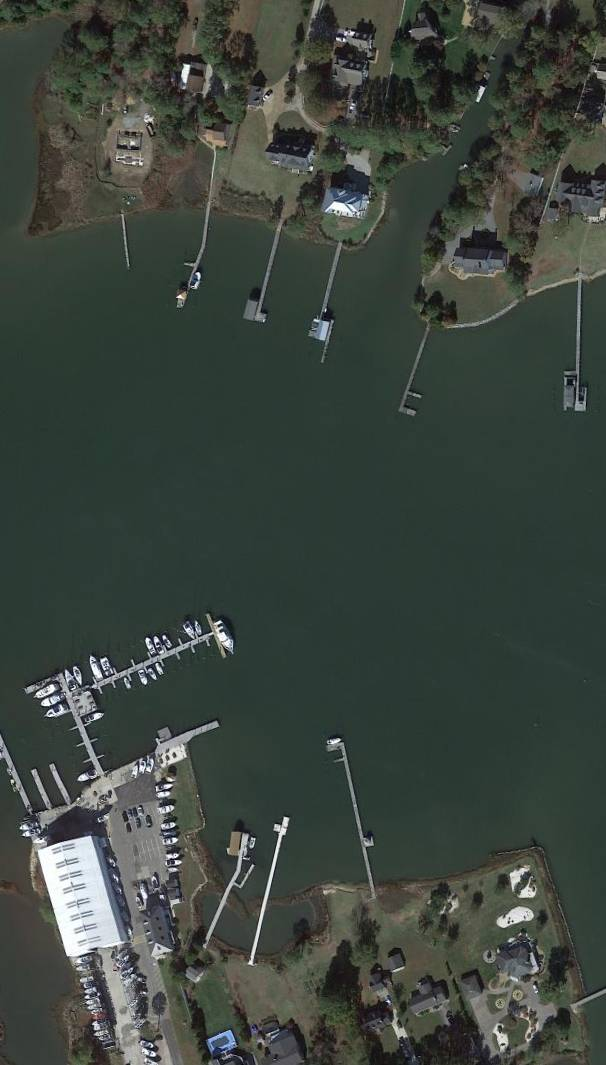harbor: (25, 612, 228, 734), (325, 741, 374, 887), (248, 815, 290, 945), (308, 250, 351, 343), (244, 232, 287, 324), (210, 831, 252, 920), (398, 339, 441, 419), (563, 291, 589, 411), (172, 245, 205, 310), (120, 216, 133, 271)
ship: (211, 617, 241, 658), (29, 680, 62, 703), (84, 652, 106, 685), (38, 690, 69, 712), (43, 703, 72, 723), (75, 766, 101, 786), (59, 667, 79, 692), (151, 633, 169, 657), (70, 663, 87, 688), (182, 620, 200, 643), (188, 270, 205, 294), (143, 636, 160, 660), (83, 710, 105, 726), (136, 668, 151, 687)
